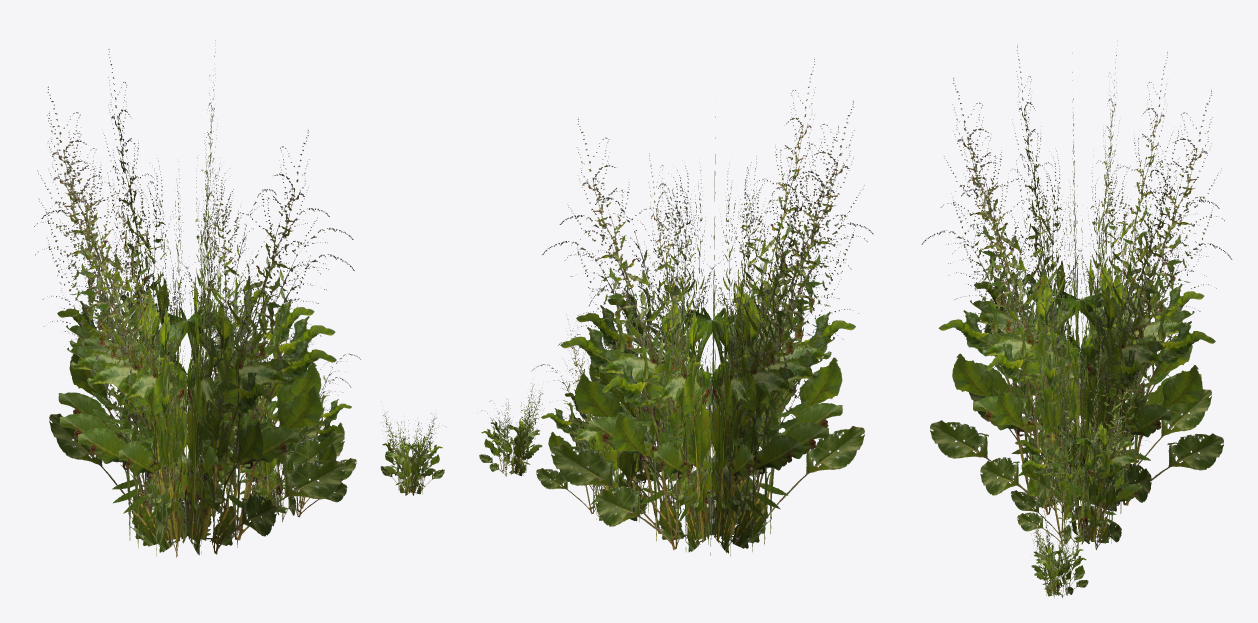
Rendered from plants.obj.
3 renders of one model, left to right at view 1: azimuth 30°, elevation 25°; view 2: azimuth 150°, elevation 25°; view 3: azimuth 270°, elevation 25°, orthographic. The views are drawn at different scales.
Visible parts, largest first — view 1: plants; view 2: plants; view 3: plants.
Boxes of the visible parts, bbox=[...] form: plants: bbox=[34, 40, 446, 557]; plants: bbox=[479, 58, 873, 556]; plants: bbox=[921, 41, 1232, 598].
Bounding box in the file's own units: 1.5 × 1.62 × 1.15.
Materials: 1 (1 with a texture image).
